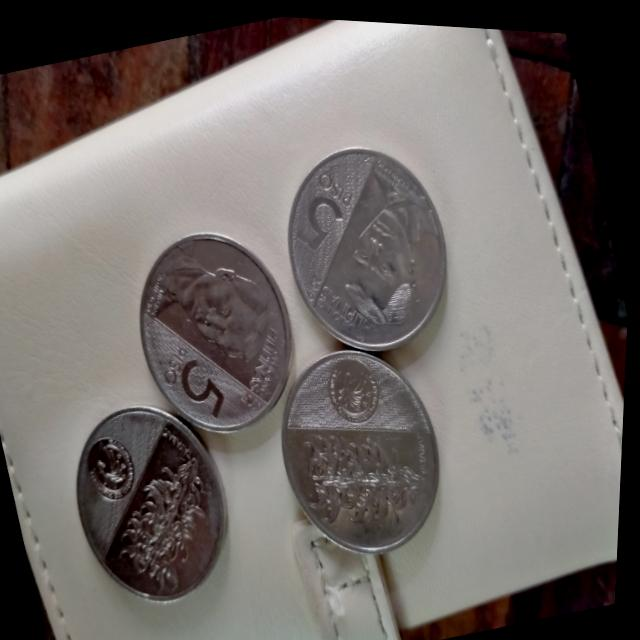5_New_Back: (278, 386, 452, 551), (109, 434, 252, 620)
5_New_Front: (151, 323, 244, 439), (280, 154, 373, 265)
